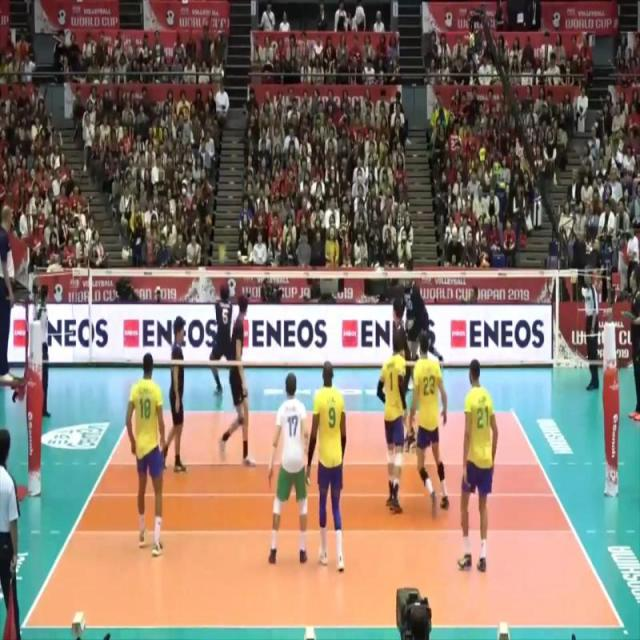volleyball: (218, 244, 228, 264)
